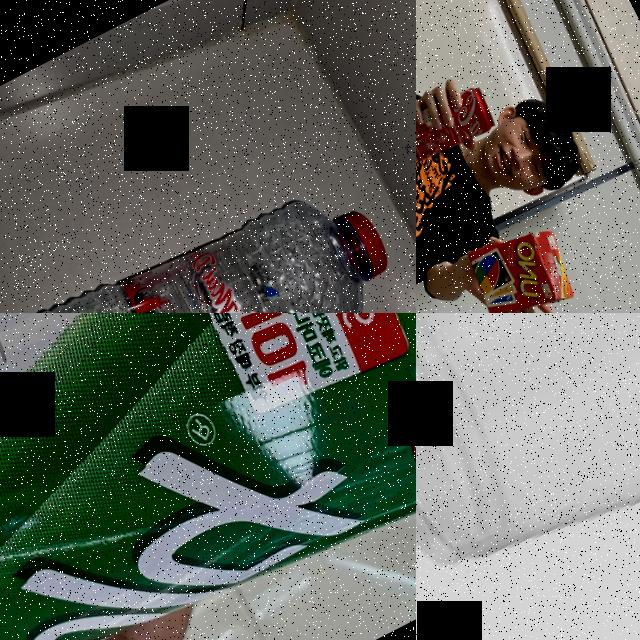bottle: (4, 161, 408, 313)
can: (0, 313, 416, 640), (416, 78, 502, 172)
cup: (416, 313, 640, 640)
